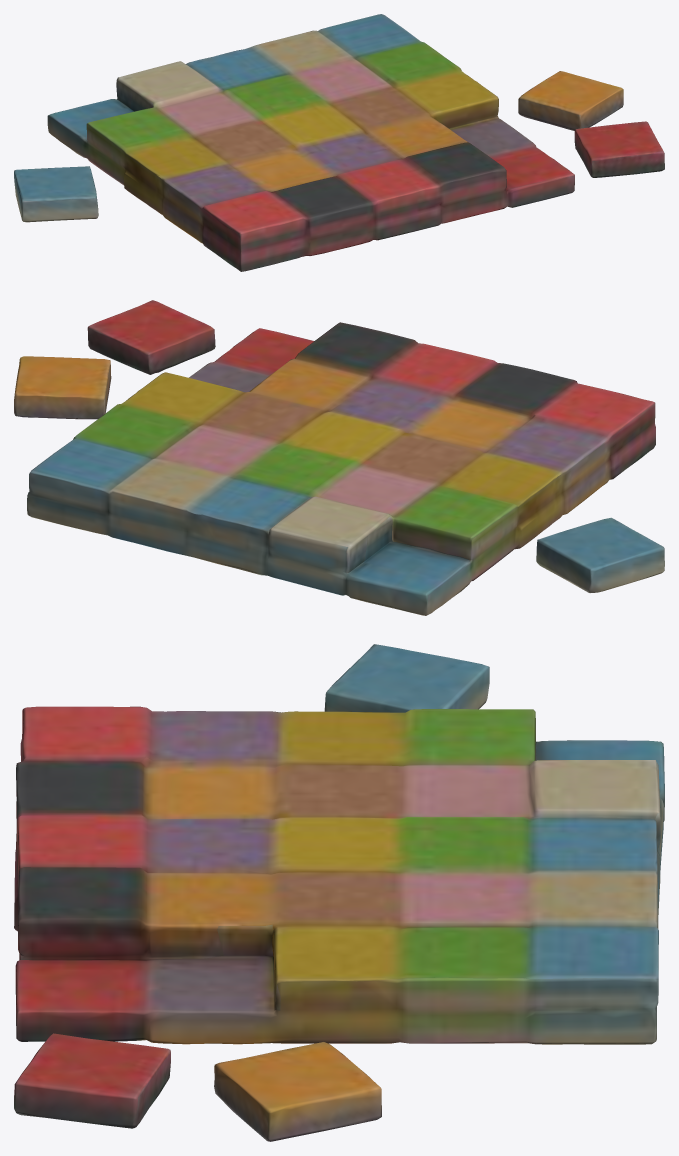
Rendered from gso_mosaic.glb.
The picture shows the model from 3 angles, top to bottom: view 1: azimuth 30°, elevation 25°; view 2: azimuth 150°, elevation 25°; view 3: azimuth 270°, elevation 25°; orthographic projection. The views are drawn at different scales.
Visible parts, largest first — view 1: z-up-to-y-up; view 2: z-up-to-y-up; view 3: z-up-to-y-up.
Part boxes in pixels (x1,y1,x2,y2): z-up-to-y-up: [14, 14, 664, 271]; z-up-to-y-up: [14, 300, 664, 615]; z-up-to-y-up: [14, 644, 664, 1141].
Size of the model in its own units: 0.2766 by 0.0194 by 0.164.
1 material, 1 textured.
